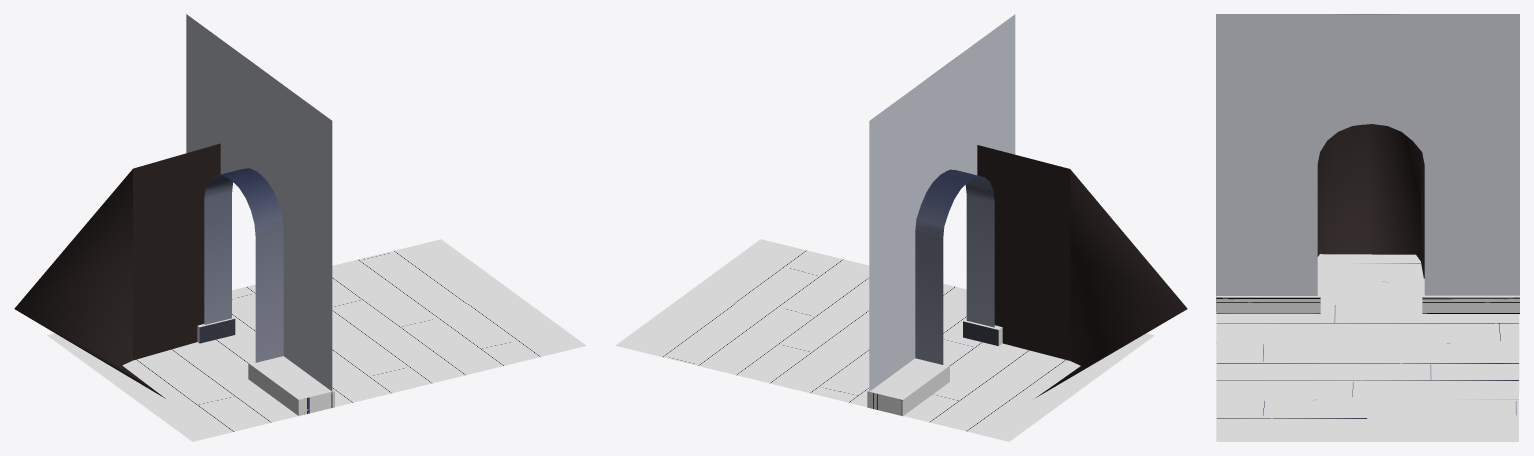
The model's file is arch1.obj.
3 renders of one model, left to right at view 1: azimuth 30°, elevation 25°; view 2: azimuth 150°, elevation 25°; view 3: azimuth 270°, elevation 25°, orthographic. The views are drawn at different scales.
Parts seen in each view (by area): view 1: pCube6, pCube13, pCube9, skirting_and_door_frame1; view 2: pCube6, pCube13, pCube9, skirting_and_door_frame1; view 3: pCube13, pCube6, pCube9, skirting_and_door_frame1.
Boxes of the visible parts, bbox=[...] form: pCube6: bbox=[47, 239, 586, 441]; pCube13: bbox=[186, 14, 332, 391]; pCube9: bbox=[14, 143, 220, 398]; skirting_and_door_frame1: bbox=[197, 316, 334, 415]; pCube6: bbox=[615, 239, 1154, 441]; pCube13: bbox=[869, 14, 1015, 391]; pCube9: bbox=[977, 145, 1187, 397]; skirting_and_door_frame1: bbox=[867, 319, 1002, 415]; pCube13: bbox=[1216, 14, 1519, 311]; pCube6: bbox=[1216, 254, 1519, 441]; pCube9: bbox=[1317, 124, 1424, 278]; skirting_and_door_frame1: bbox=[1216, 278, 1519, 313].
Size of the model in its own units: 268 by 153 by 136.
Materials: 4 (4 with a texture image).
